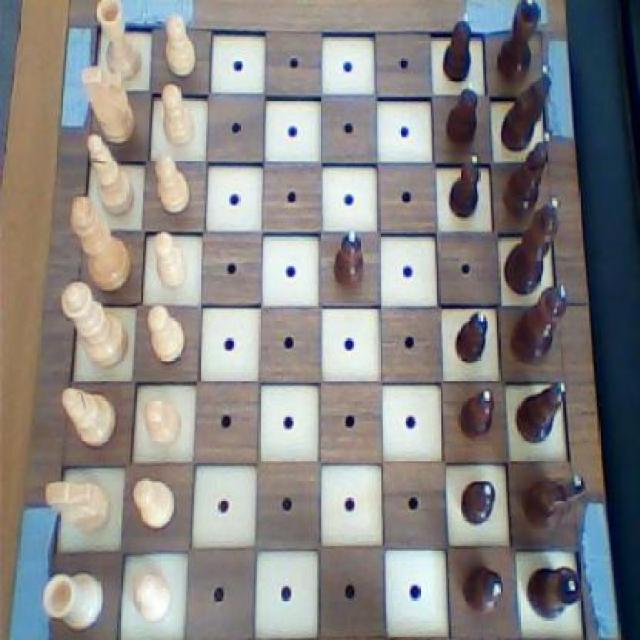bishop: (500, 132, 559, 223), (511, 374, 569, 445)
black-bishop: (502, 192, 566, 300)
black-king: (497, 62, 556, 154), (520, 469, 588, 531)
black-knight: (458, 555, 507, 620), (442, 149, 486, 221), (329, 223, 372, 294), (454, 382, 501, 444), (449, 308, 497, 368), (438, 8, 476, 83), (442, 79, 479, 153), (454, 474, 499, 534)
black-pawn: (506, 279, 570, 366)
black-queen: (492, 0, 543, 86), (526, 562, 583, 620)
black-rook: (81, 127, 138, 220), (56, 379, 120, 453)
white-bishop: (66, 192, 133, 294)
white-king: (79, 61, 143, 147), (41, 474, 116, 538)
white-knight: (144, 303, 194, 371), (129, 472, 181, 536), (129, 561, 178, 627), (154, 146, 195, 222), (152, 226, 197, 294), (160, 11, 202, 82), (160, 81, 202, 150), (141, 396, 187, 452)
white-pawn: (60, 277, 132, 375)
white-queen: (37, 566, 108, 634), (94, 0, 146, 83)
